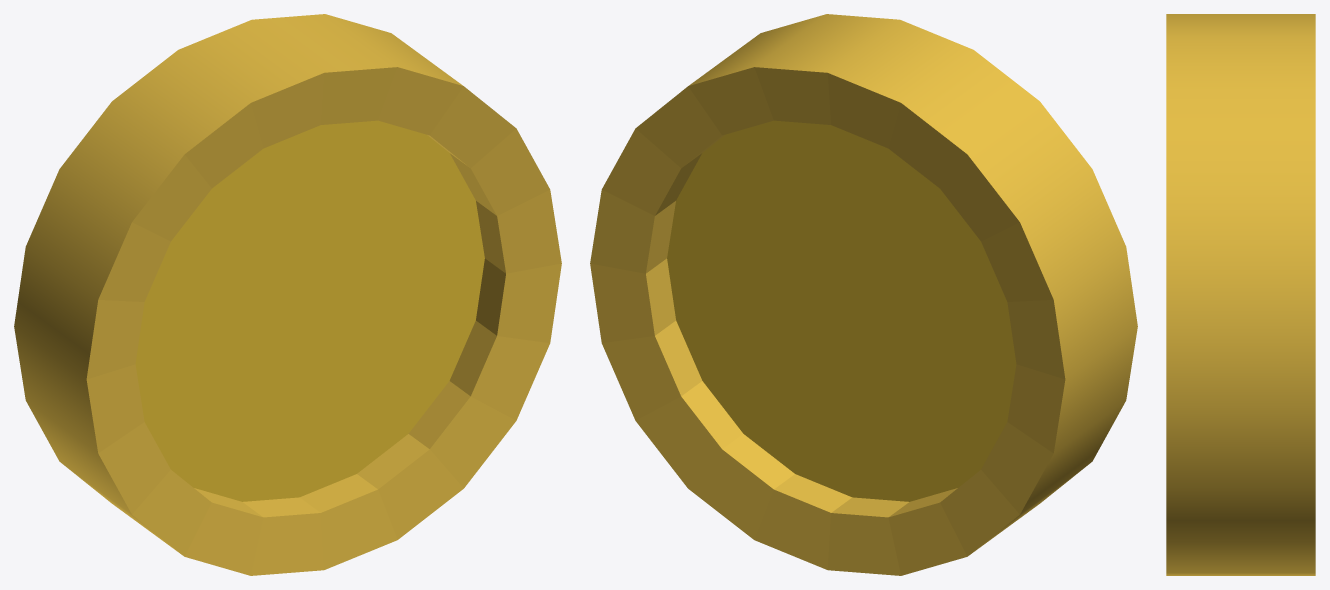
File: VR COIN MODEL.fbx
The picture shows the model from 3 angles, left to right: view 1: azimuth 30°, elevation 25°; view 2: azimuth 150°, elevation 25°; view 3: azimuth 270°, elevation 25°; orthographic projection. The views are drawn at different scales.
Visible parts, largest first — view 1: pCylinder1; view 2: pCylinder1; view 3: pCylinder1.
Part boxes in pixels (left/top/right/bottom): pCylinder1: left=14, top=14, right=561, bottom=575; pCylinder1: left=590, top=14, right=1137, bottom=575; pCylinder1: left=1166, top=14, right=1315, bottom=575.
Size of the model in its own units: 0.02 by 0.02 by 0.00529.
